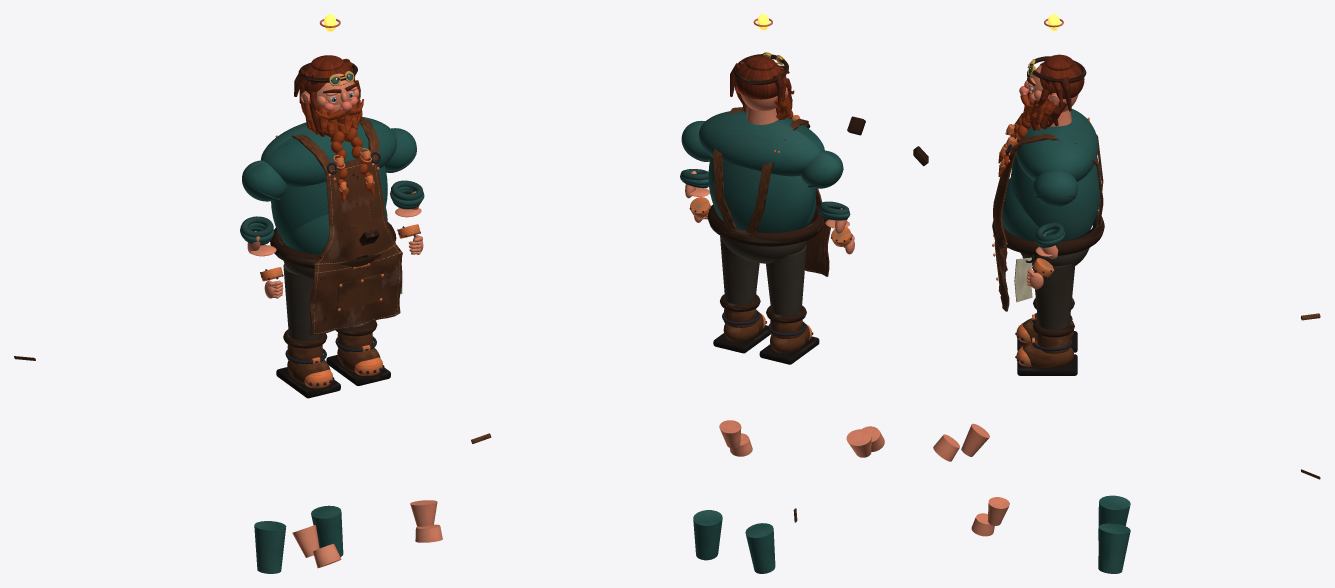
The model's file is brann.glb.
3 views of the same model, side by side, from view 1: azimuth 30°, elevation 25°; view 2: azimuth 150°, elevation 25°; view 3: azimuth 270°, elevation 25° (orthographic). The views are drawn at different scales.
Visible parts, largest first — view 1: Body, RightArm, LeftArm, HeadMesh, BeardMesh; view 2: Body, RightArm, LeftArm, HeadMesh, BeardMesh; view 3: Body, LeftArm, HeadMesh, RightArm, BeardMesh.
Part boxes in pixels (bbox=[...]): Body: bbox=[261, 117, 402, 398]; RightArm: bbox=[240, 160, 341, 573]; LeftArm: bbox=[311, 128, 442, 557]; HeadMesh: bbox=[14, 55, 360, 360]; BeardMesh: bbox=[301, 98, 374, 202]; Body: bbox=[699, 106, 865, 364]; RightArm: bbox=[745, 150, 884, 573]; LeftArm: bbox=[680, 120, 752, 560]; HeadMesh: bbox=[471, 52, 797, 522]; BeardMesh: bbox=[735, 86, 800, 120]; Body: bbox=[913, 109, 1104, 375]; LeftArm: bbox=[971, 170, 1130, 573]; HeadMesh: bbox=[1019, 54, 1320, 479]; RightArm: bbox=[933, 423, 1130, 540]; BeardMesh: bbox=[998, 91, 1067, 176].
Size of the model in its own units: 2.12 by 3.28 by 2.23.
Materials: 26 (26 with a texture image).
